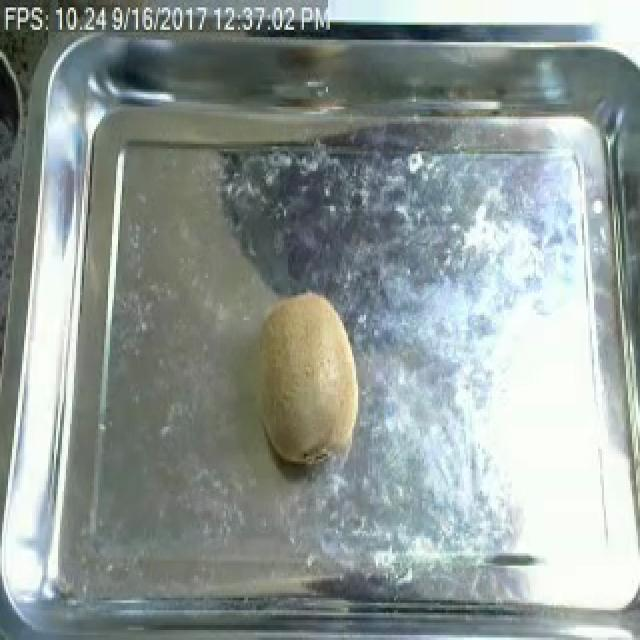Fruit: (244, 283, 370, 471)
